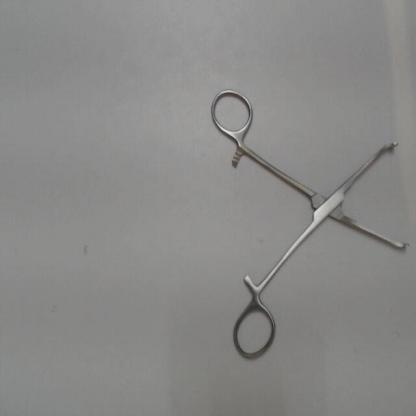Allis Tissue Forceps: (207, 80, 414, 368)
